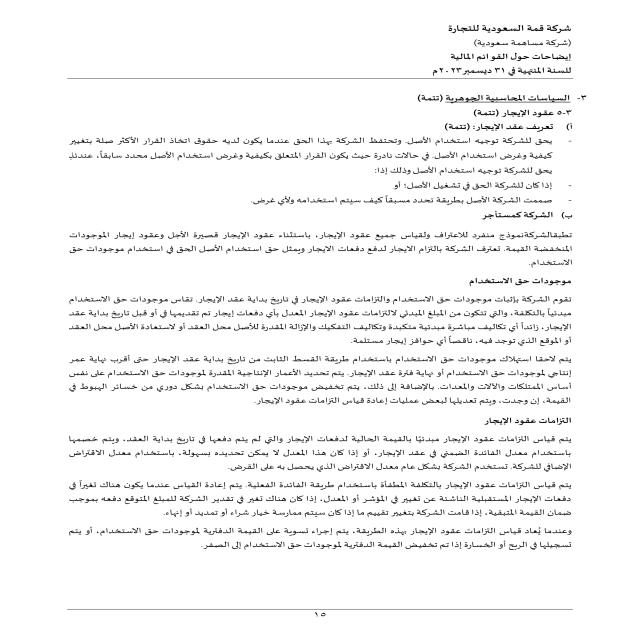notes: (435, 52, 580, 65)
text: (30, 92, 602, 573)
